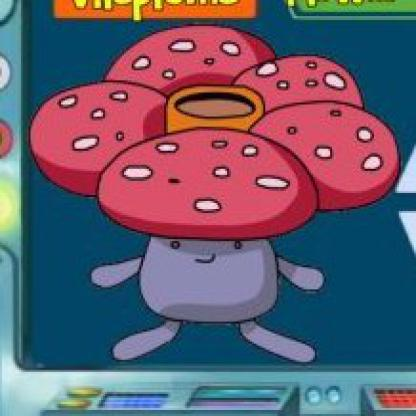Vileplume: (29, 27, 403, 370)
